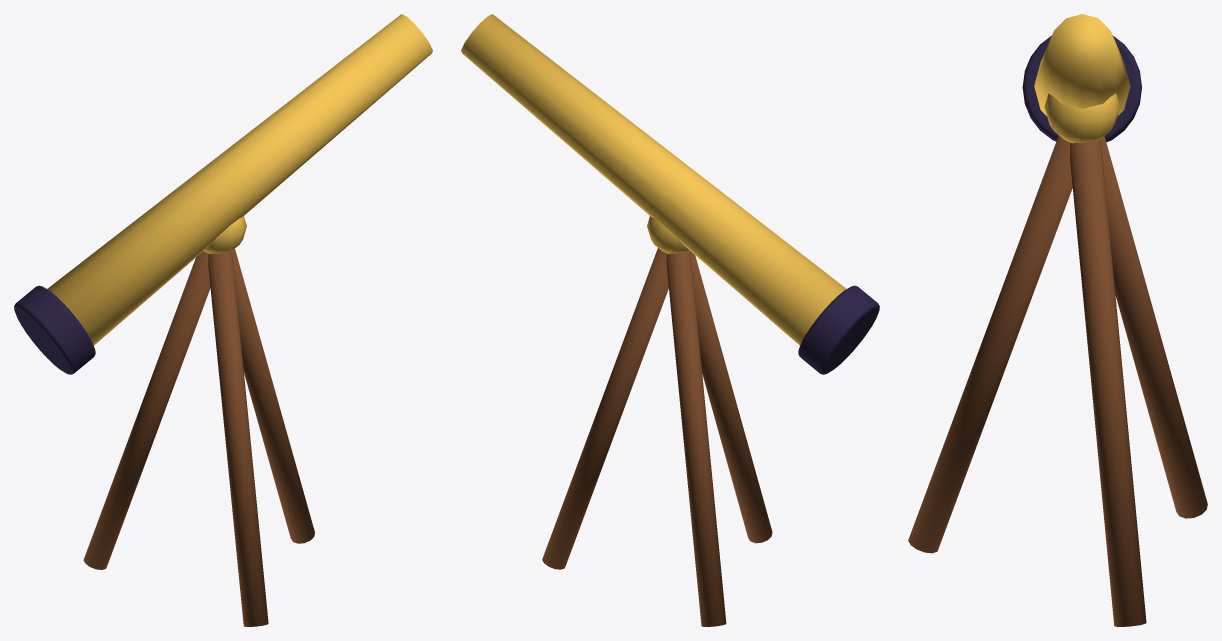
The model's file is telescope.glb.
The picture shows the model from 3 angles, left to right: view 1: azimuth 30°, elevation 25°; view 2: azimuth 150°, elevation 25°; view 3: azimuth 270°, elevation 25°; orthographic projection. The views are drawn at different scales.
Parts seen in each view (by area): view 1: telescope; view 2: telescope; view 3: telescope.
Boxes of the visible parts, left/top/right/bottom form: telescope: left=14, top=14, right=432, bottom=626; telescope: left=461, top=14, right=879, bottom=626; telescope: left=908, top=14, right=1207, bottom=626.
Size of the model in its own units: 1.11 by 1.36 by 0.5534.
